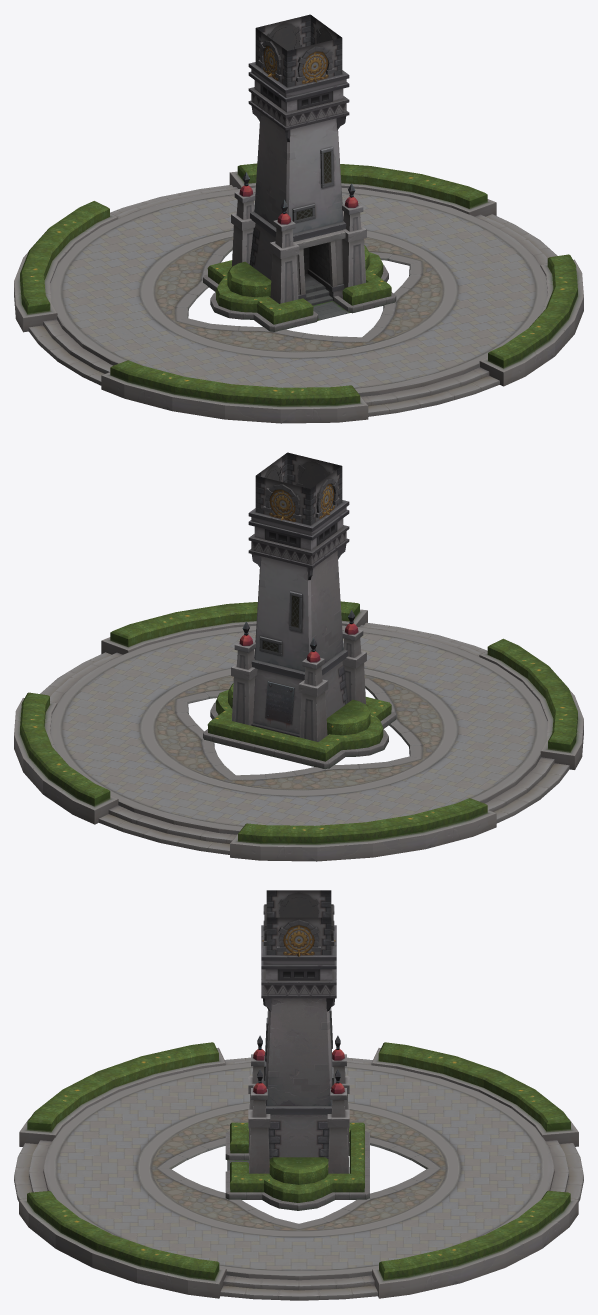
Rendered from scene_luoliante_zl01.FBX.
The picture shows the model from 3 angles, top to bottom: view 1: azimuth 30°, elevation 25°; view 2: azimuth 150°, elevation 25°; view 3: azimuth 270°, elevation 25°; orthographic projection. The views are drawn at different scales.
Parts seen in each view (by area): view 1: scene_luoliante_zl01; view 2: scene_luoliante_zl01; view 3: scene_luoliante_zl01.
Part boxes in pixels (<box>): scene_luoliante_zl01: <box>14,14,583,423</box>; scene_luoliante_zl01: <box>14,452,583,861</box>; scene_luoliante_zl01: <box>14,890,583,1300</box>.
Size of the model in its own units: 1488 by 797 by 1488.
